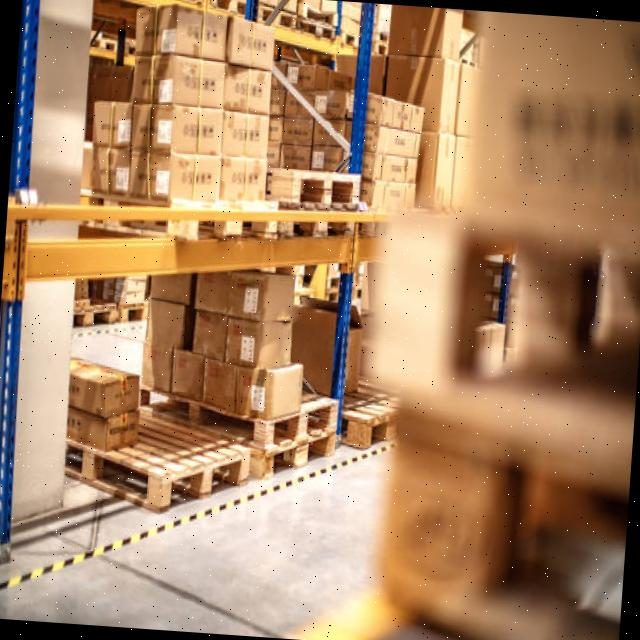Wooden-Pallets: (65, 440, 248, 519), (258, 391, 340, 455), (267, 169, 358, 205)
